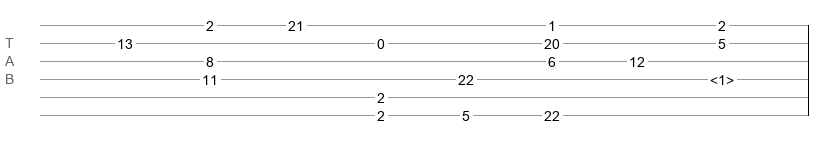0: (377, 36, 385, 46)
1: (548, 18, 556, 28)
11: (202, 72, 218, 82)
12: (629, 54, 645, 64)
13: (117, 36, 133, 46)
2: (206, 18, 214, 28), (377, 108, 385, 118), (377, 90, 385, 100), (718, 18, 726, 28)
20: (544, 36, 560, 46)
21: (288, 18, 304, 28)
22: (458, 72, 474, 82), (544, 108, 560, 118)
5: (462, 108, 470, 118), (718, 36, 726, 46)
6: (548, 54, 556, 64)
8: (206, 54, 214, 64)
harmonic: (710, 72, 734, 82)
